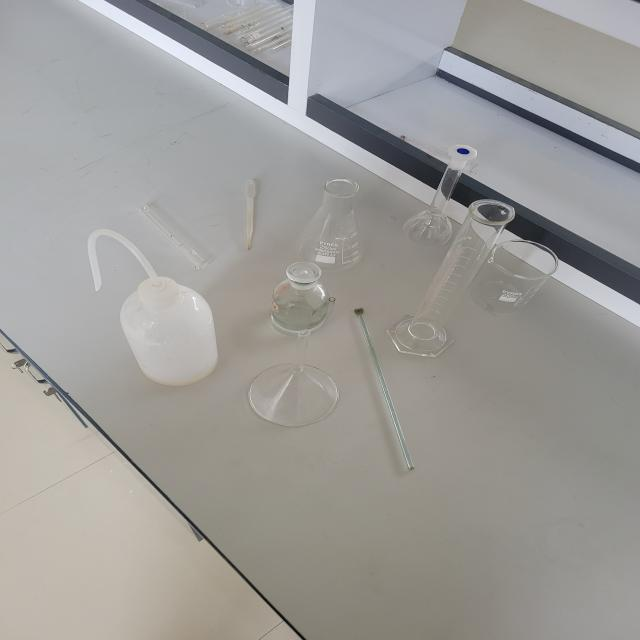Beaker: (461, 229, 580, 334)
Conical_Flask: (291, 168, 378, 280)
Funnel: (217, 328, 349, 440)
Glass_Rod: (344, 292, 442, 496)
Pipette: (234, 174, 267, 260)
Test_Tube: (123, 194, 230, 275)
Volumetric_Flask: (390, 128, 505, 252)
Wash_Bottle: (77, 213, 246, 407)
